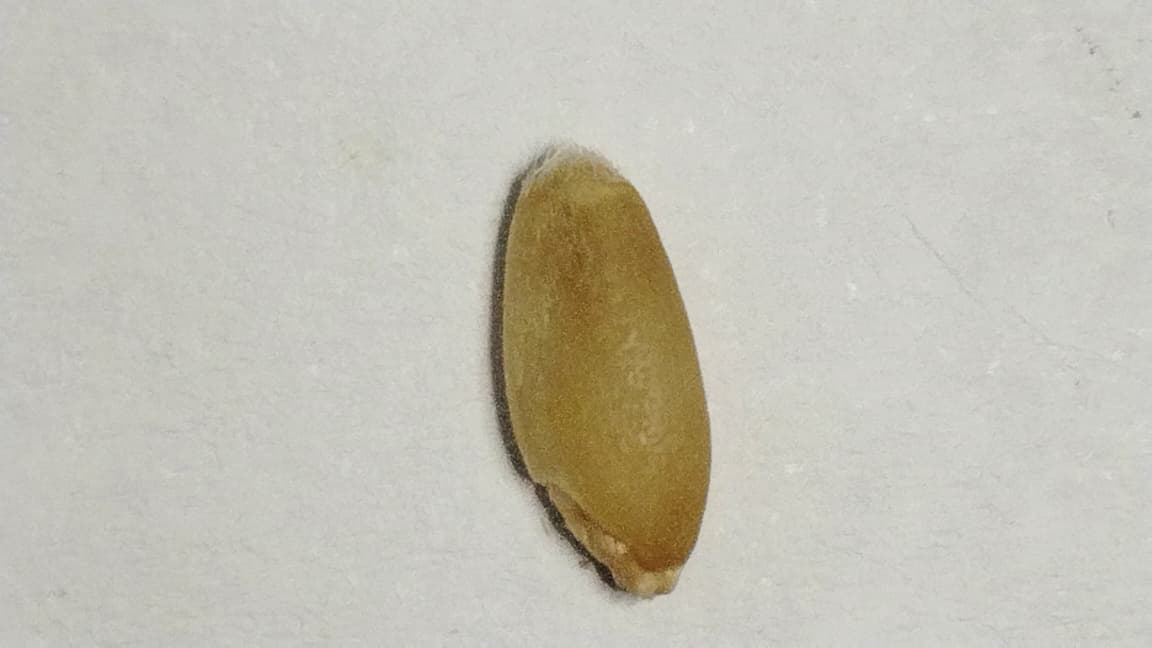healthy: (499, 158, 709, 594)
